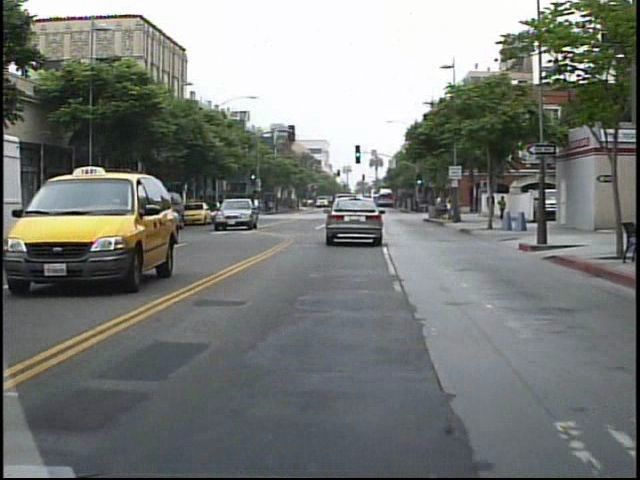person: (479, 186, 494, 226), (427, 188, 445, 220), (491, 190, 505, 224), (251, 193, 262, 213)
